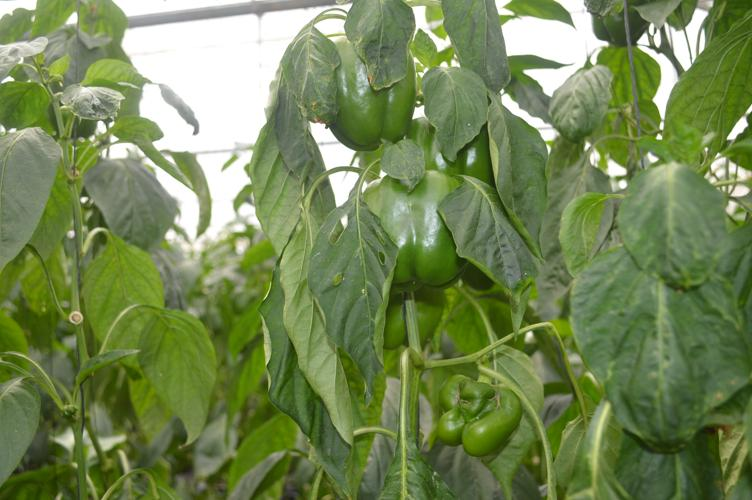BellPepper: (366, 169, 468, 285), (321, 41, 413, 141), (433, 374, 530, 456), (406, 116, 488, 179), (372, 286, 447, 348)
